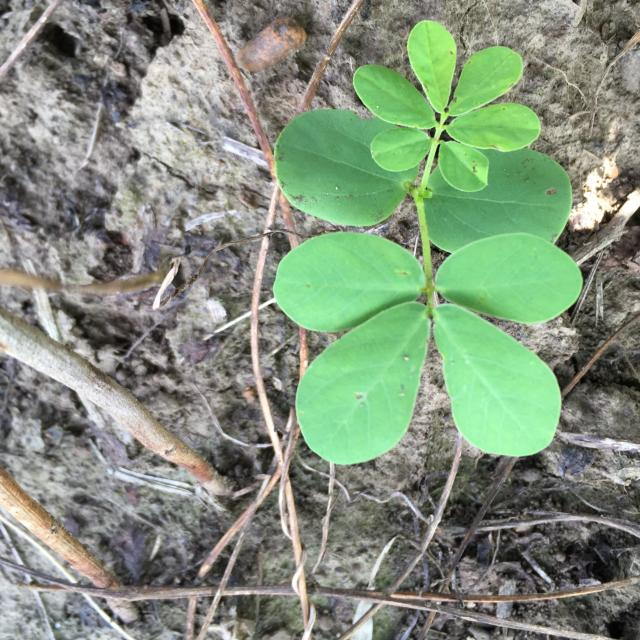Sicklepod: (273, 20, 584, 465)
